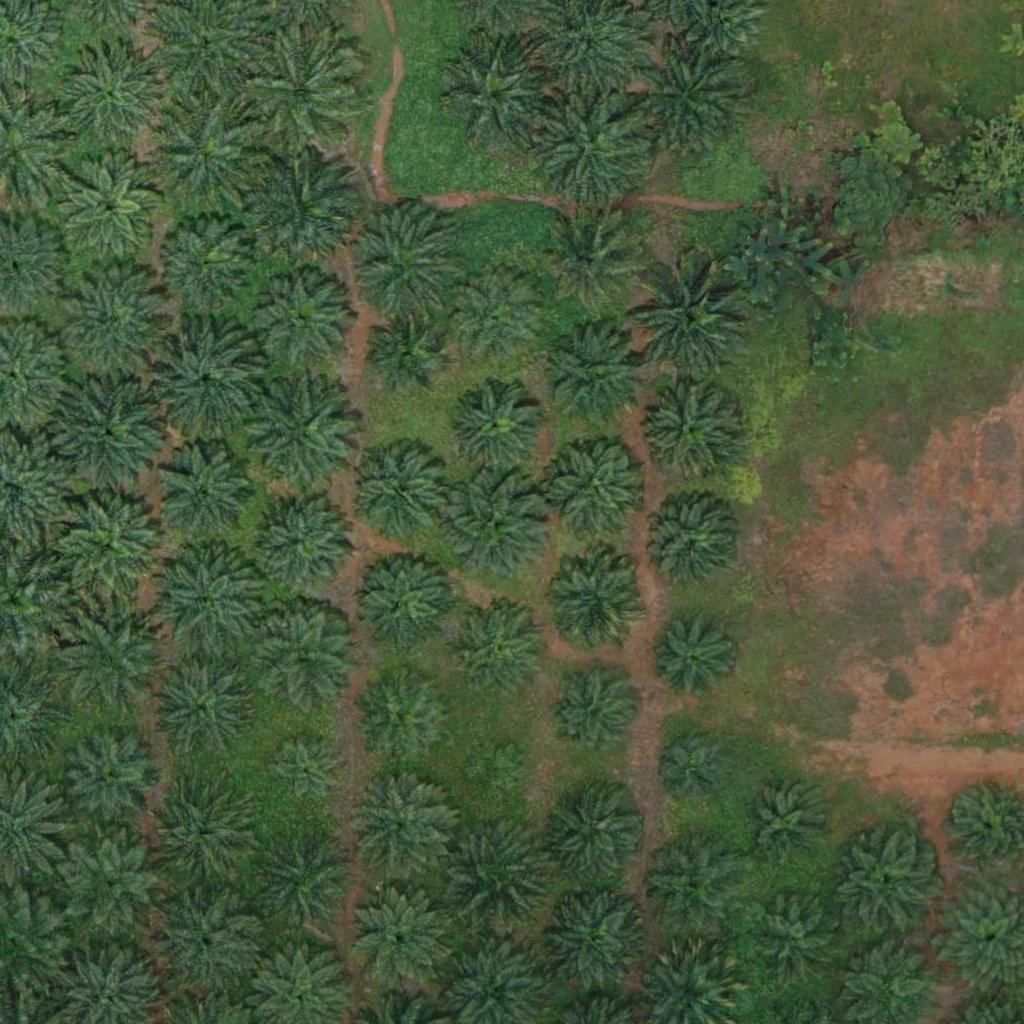Kelapa_Sawit: (242, 34, 355, 148), (346, 208, 459, 322), (538, 429, 651, 543), (436, 468, 549, 582), (60, 262, 173, 375), (52, 372, 165, 485), (633, 50, 746, 163), (537, 779, 650, 892), (153, 547, 266, 660), (54, 493, 167, 606), (55, 34, 167, 148), (147, 94, 259, 208), (247, 147, 359, 261), (244, 262, 356, 376), (636, 265, 748, 378), (148, 315, 260, 428), (246, 380, 358, 493), (440, 39, 552, 152), (536, 92, 648, 205), (541, 323, 653, 436), (538, 887, 650, 1000), (439, 816, 551, 929), (149, 888, 261, 1001), (56, 604, 168, 717), (546, 213, 646, 314), (59, 153, 159, 254), (154, 444, 254, 545), (640, 379, 740, 480), (642, 835, 742, 936), (453, 598, 553, 699), (351, 547, 451, 648), (355, 666, 455, 767), (347, 774, 447, 875), (347, 885, 447, 986), (251, 492, 351, 593), (252, 604, 352, 705), (254, 830, 354, 931), (152, 653, 252, 754), (149, 786, 249, 887), (62, 730, 162, 831), (62, 833, 162, 934), (155, 210, 255, 310), (344, 443, 444, 543), (446, 266, 546, 366), (443, 378, 543, 478), (642, 493, 742, 593), (543, 553, 643, 653), (835, 834, 935, 934), (647, 617, 735, 705), (742, 779, 830, 867), (758, 899, 845, 987), (549, 669, 636, 757), (367, 312, 442, 388), (265, 736, 340, 811), (660, 737, 723, 800), (462, 740, 524, 803)
